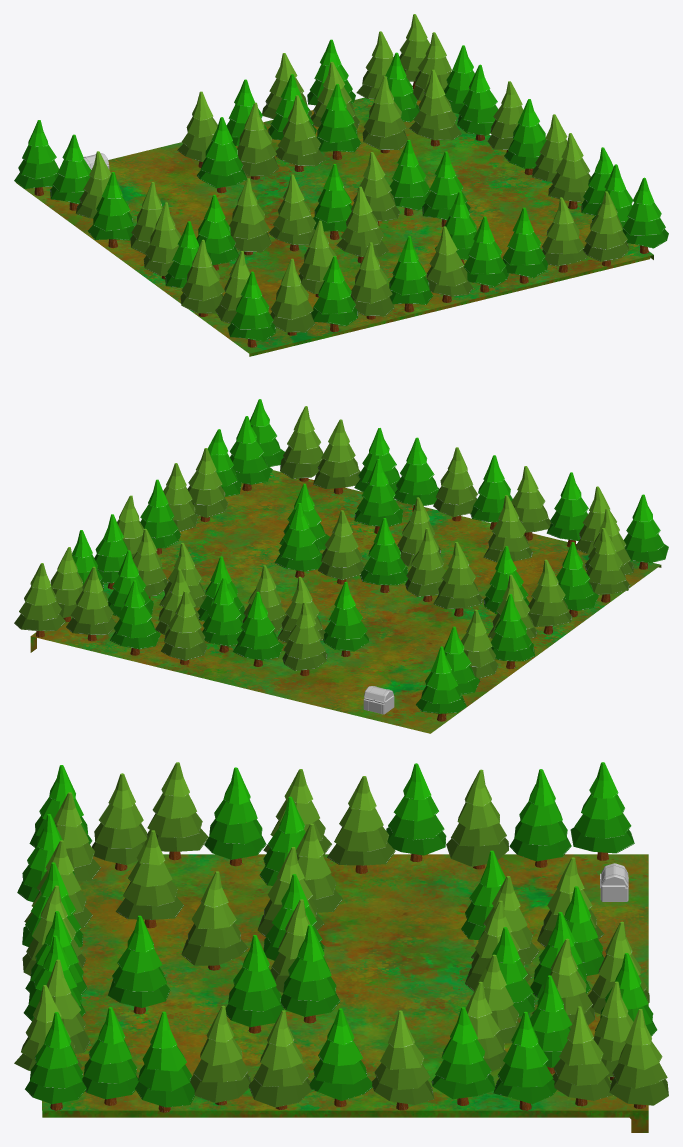
Rendered from lvl_0-cnk_0.obj.
3 renders of one model, top to bottom at view 1: azimuth 30°, elevation 25°; view 2: azimuth 150°, elevation 25°; view 3: azimuth 270°, elevation 25°, orthographic. The views are drawn at different scales.
Visible parts, largest first — view 1: Cube.007, Arbol_1.081, Arbol_1.030, Arbol_1.010, Arbol_1.068, Arbol_1.062, Arbol_1.001, Arbol_1.006, Arbol_1.017, Arbol_1.011, Arbol_1.020, Arbol_1.042 (+43 smaller); view 2: Cube.007, Arbol_1.044, Arbol_1.022, Arbol_1.089, Arbol_1.071, Arbol_1.093, Arbol_1.042, Arbol_1.035, Arbol_1.015, Arbol_1.014, Arbol_1.062, Arbol_1.194 (+44 smaller); view 3: Cube.007, Arbol_1.027, Arbol_1.037, Arbol_1.036, Arbol_1.029, Arbol_1.035, Arbol_1.044, Arbol_1.026, Arbol_1.025, Arbol_1.033, Arbol_1.040, Arbol_1.039 (+44 smaller).
Part boxes in pixels (<box>): Cube.007: <box>16,89,653,356</box>; Arbol_1.081: <box>362,76,407,153</box>; Arbol_1.030: <box>409,69,461,146</box>; Arbol_1.010: <box>270,258,315,335</box>; Arbol_1.068: <box>275,95,325,171</box>; Arbol_1.062: <box>197,117,247,193</box>; Arbol_1.001: <box>227,271,275,347</box>; Arbol_1.006: <box>180,239,224,316</box>; Arbol_1.017: <box>351,242,394,319</box>; Arbol_1.011: <box>311,256,358,332</box>; Arbol_1.020: <box>426,226,473,302</box>; Arbol_1.042: <box>583,191,629,266</box>; Cube.007: <box>30,470,661,733</box>; Arbol_1.044: <box>14,563,65,637</box>; Arbol_1.022: <box>313,419,360,494</box>; Arbol_1.089: <box>66,566,116,641</box>; Arbol_1.071: <box>110,580,160,655</box>; Arbol_1.093: <box>233,591,283,666</box>; Arbol_1.042: <box>280,406,323,481</box>; Arbol_1.035: <box>416,646,466,721</box>; Arbol_1.015: <box>274,503,322,577</box>; Arbol_1.014: <box>360,518,408,592</box>; Arbol_1.062: <box>323,582,369,656</box>; Arbol_1.194: <box>161,591,207,665</box>; Cube.007: <box>42,854,648,1132</box>; Arbol_1.027: <box>181,871,248,970</box>; Arbol_1.037: <box>248,1010,311,1109</box>; Arbol_1.036: <box>190,1005,250,1105</box>; Arbol_1.029: <box>327,776,395,873</box>; Arbol_1.035: <box>570,762,634,860</box>; Arbol_1.044: <box>609,1009,668,1108</box>; Arbol_1.026: <box>115,830,184,928</box>; Arbol_1.025: <box>135,1011,194,1112</box>; Arbol_1.033: <box>446,769,508,869</box>; Arbol_1.040: <box>372,1010,434,1110</box>; Arbol_1.039: <box>431,1007,495,1105</box>.
Size of the model in its own units: 108 by 21.19 by 107.
